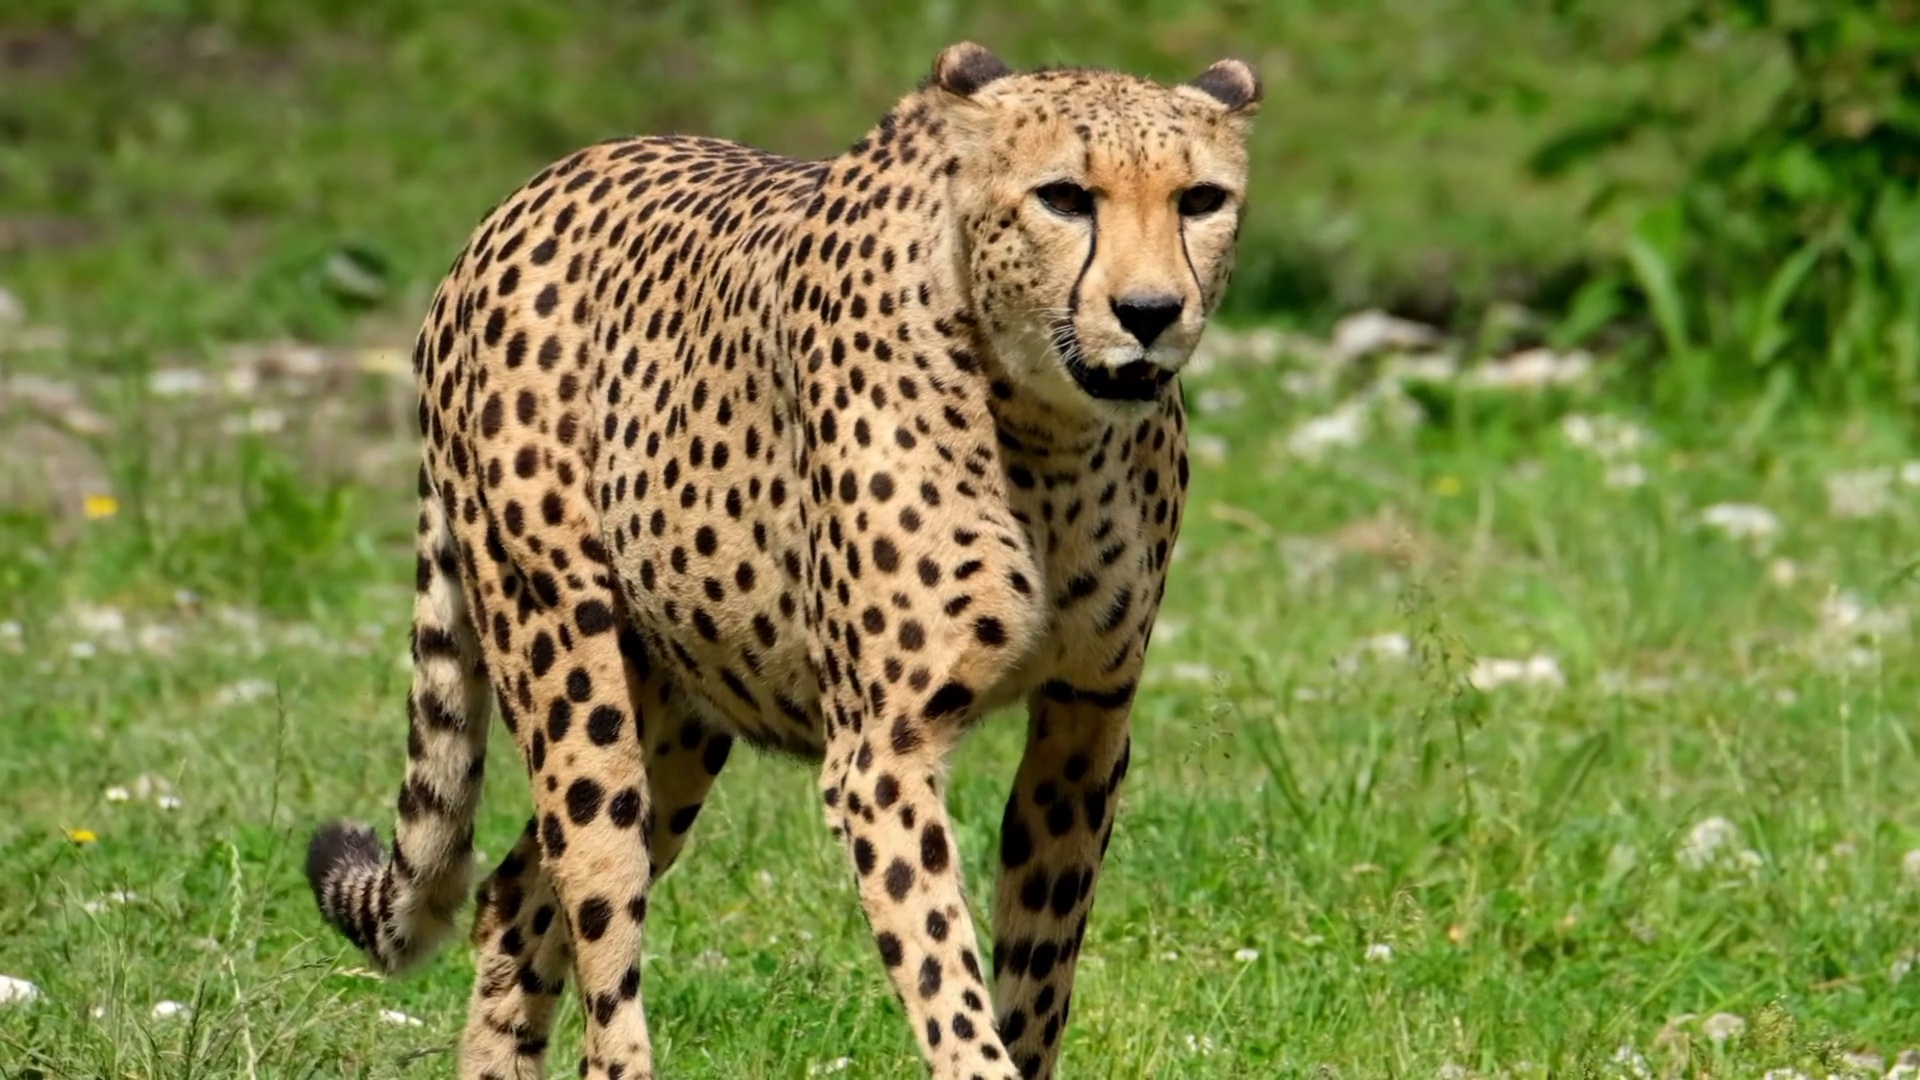Cheetah: (309, 32, 1273, 1080)
